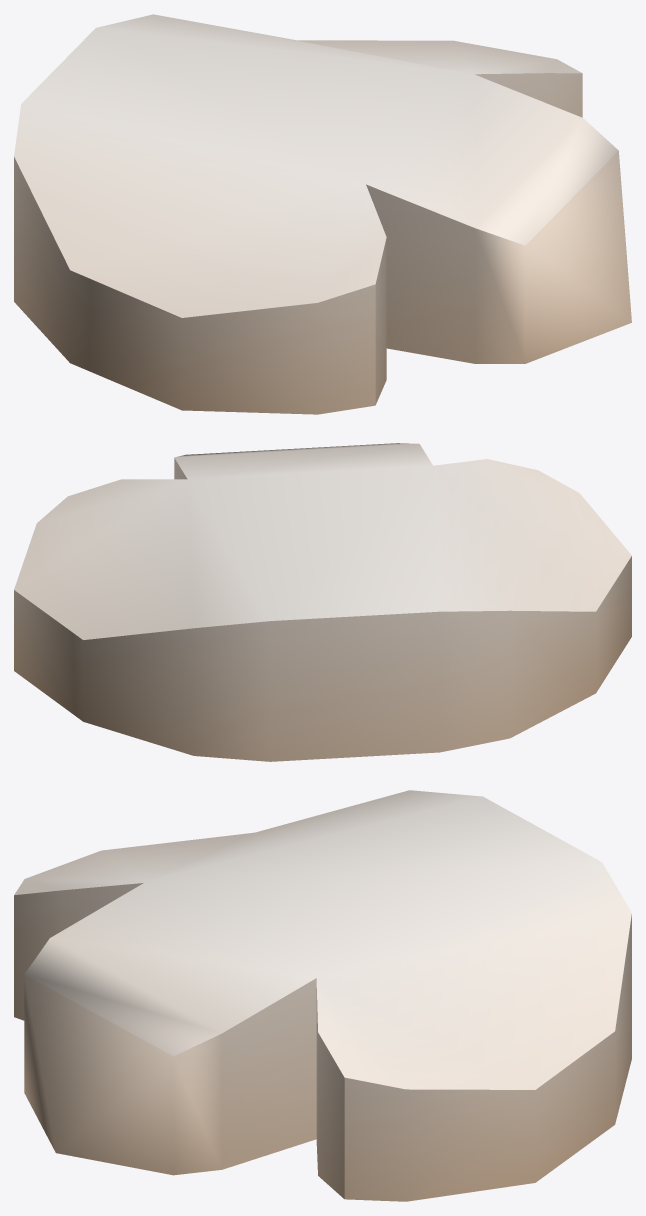
File: food_ingredient_mushroom_gib_F.gltf
3 renders of one model, top to bottom at view 1: azimuth 30°, elevation 25°; view 2: azimuth 150°, elevation 25°; view 3: azimuth 270°, elevation 25°, orthographic. The views are drawn at different scales.
Visible parts, largest first — view 1: food_ingredient_mushroom_pieces.005; view 2: food_ingredient_mushroom_pieces.005; view 3: food_ingredient_mushroom_pieces.005.
Part boxes in pixels (<box>): food_ingredient_mushroom_pieces.005: <box>14,14,631,414</box>; food_ingredient_mushroom_pieces.005: <box>14,443,631,761</box>; food_ingredient_mushroom_pieces.005: <box>14,790,631,1201</box>.
Bounding box in the file's own units: 0.2157 × 0.0588 × 0.2043.
Materials: 1 (1 with a texture image).
